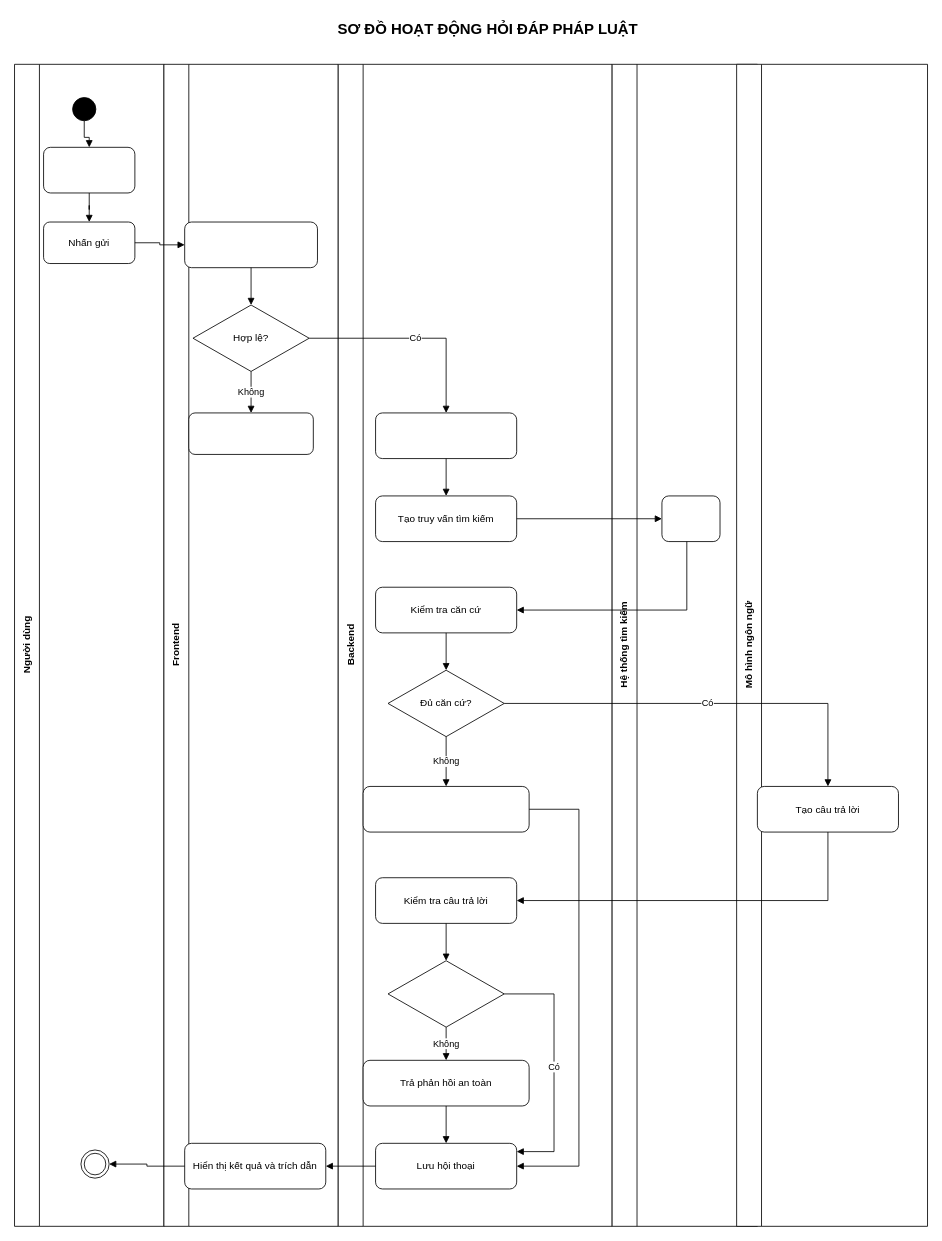
Image size: 942x1241. Some labels were removed from this diagram. Each missing label, with the centre of its shape:
Hiển thị lỗi: the point at 250,433
Kiểm tra dữ liệu đầu vào: the point at 250,244
Kết quả hợp lệ?: the point at 445,993
Nhập câu hỏi: the point at 89,169
Phân tích câu hỏi: the point at 446,435
Truy xuất căn cứ: the point at 690,518
Tạo phản hồi thiếu căn cứ: the point at 445,809
